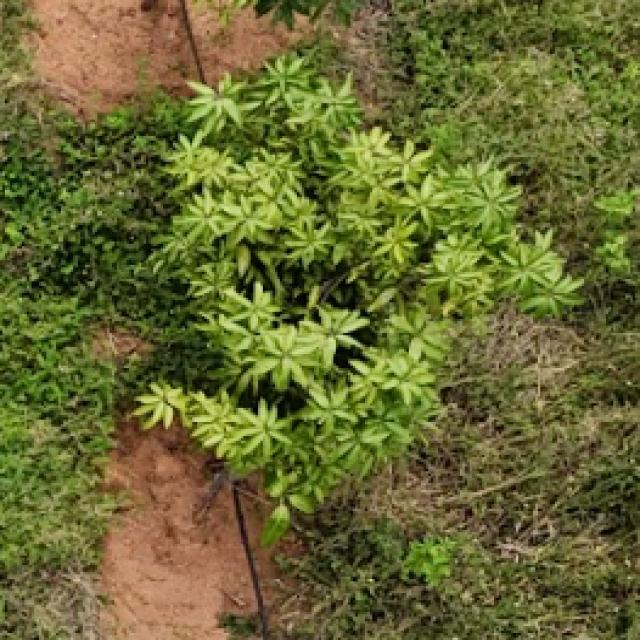mangoTree: (130, 49, 584, 546)
